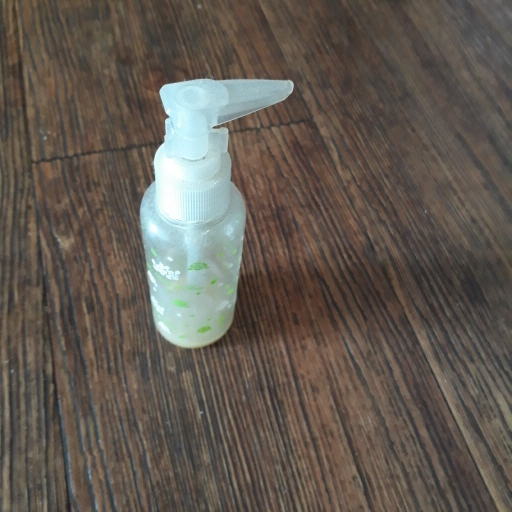Plastic_3: (138, 78, 297, 350)
